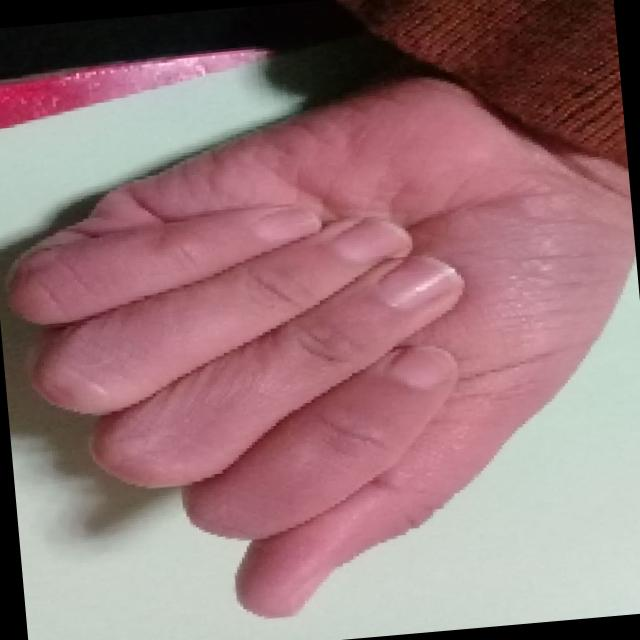Nail: (378, 255, 460, 309), (331, 220, 405, 262), (387, 345, 455, 388), (252, 208, 319, 242), (289, 574, 326, 612)
